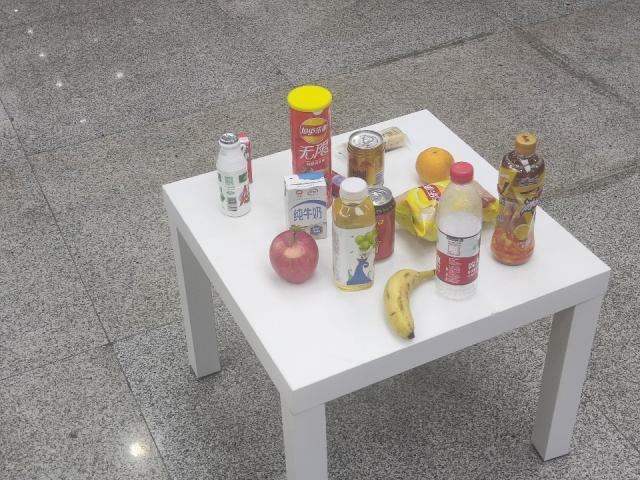Canned_drinks: (365, 185, 395, 261), (348, 128, 385, 187)
bottle: (421, 158, 491, 304)
cylinder: (286, 84, 336, 206)
drink_box: (280, 170, 333, 240)
